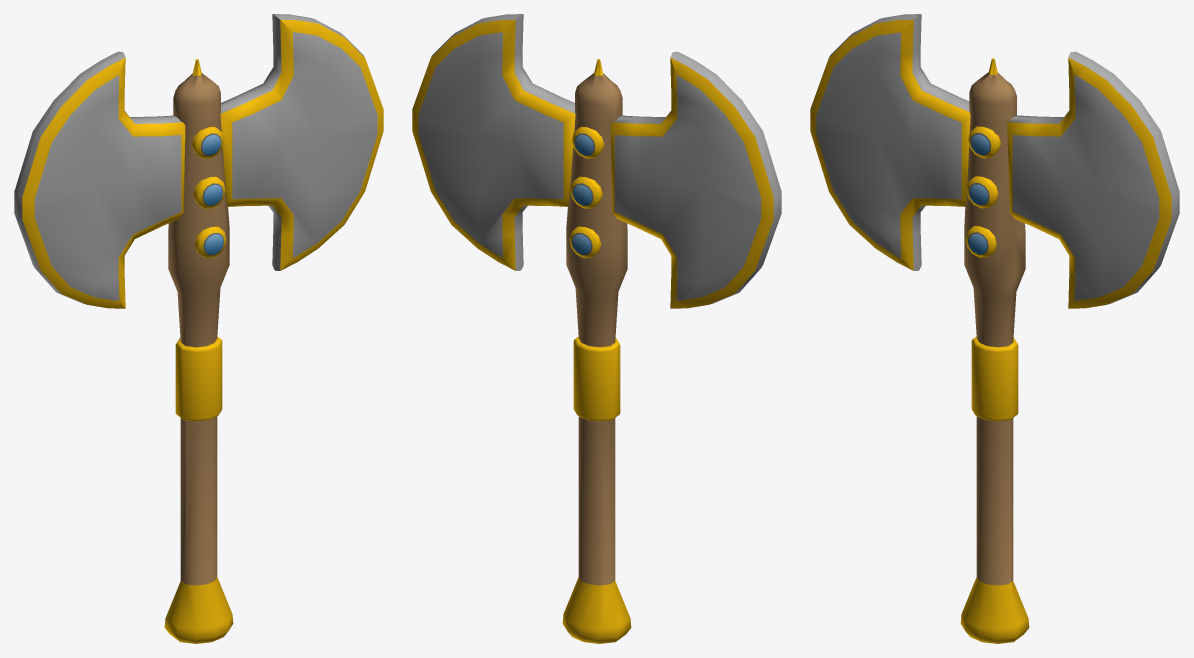
Rendered from Battle Axe_2.fbx.
The picture shows the model from 3 angles, left to right: view 1: azimuth 30°, elevation 25°; view 2: azimuth 150°, elevation 25°; view 3: azimuth 330°, elevation 25°; orthographic projection.
Visible parts, largest first — view 1: Battle Axe_2; view 2: Battle Axe_2; view 3: Battle Axe_2.
Part boxes in pixels (x1,y1,x2,y2): Battle Axe_2: (14,14,383,643); Battle Axe_2: (412,14,781,643); Battle Axe_2: (810,14,1179,643).
Size of the model in its own units: 0.2604 by 0.4111 by 0.0402.
